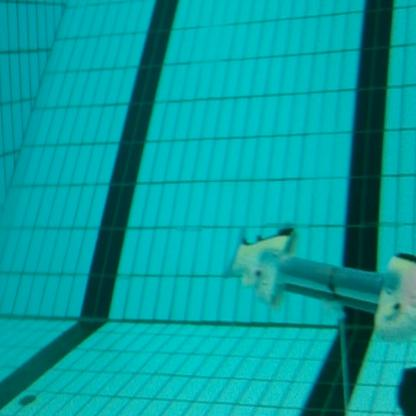tail: (226, 221, 300, 314)
